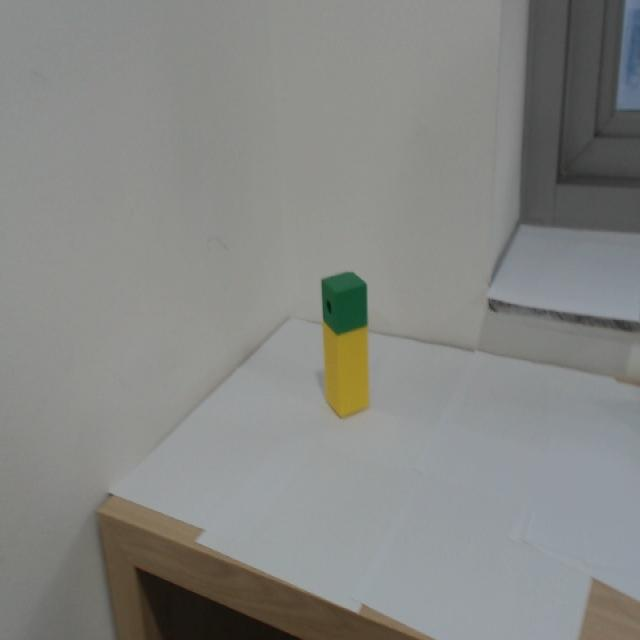cube: (319, 268, 372, 337)
